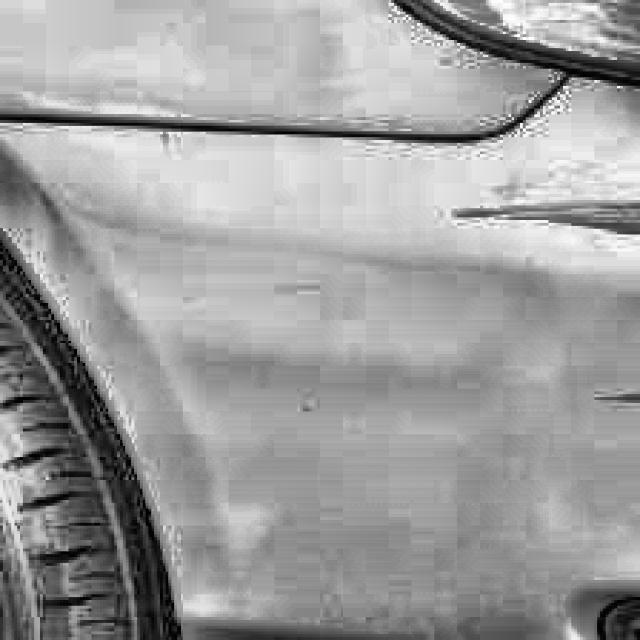bumper_scratch: (452, 188, 640, 248), (591, 377, 640, 409)
